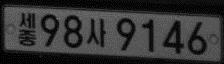1: (140, 18, 155, 53)
4: (161, 18, 184, 54)
6: (186, 20, 207, 56)
8: (62, 14, 84, 48)
9: (115, 16, 136, 51), (40, 13, 60, 48)
사: (86, 16, 107, 48)
세종_V: (17, 11, 38, 46)
